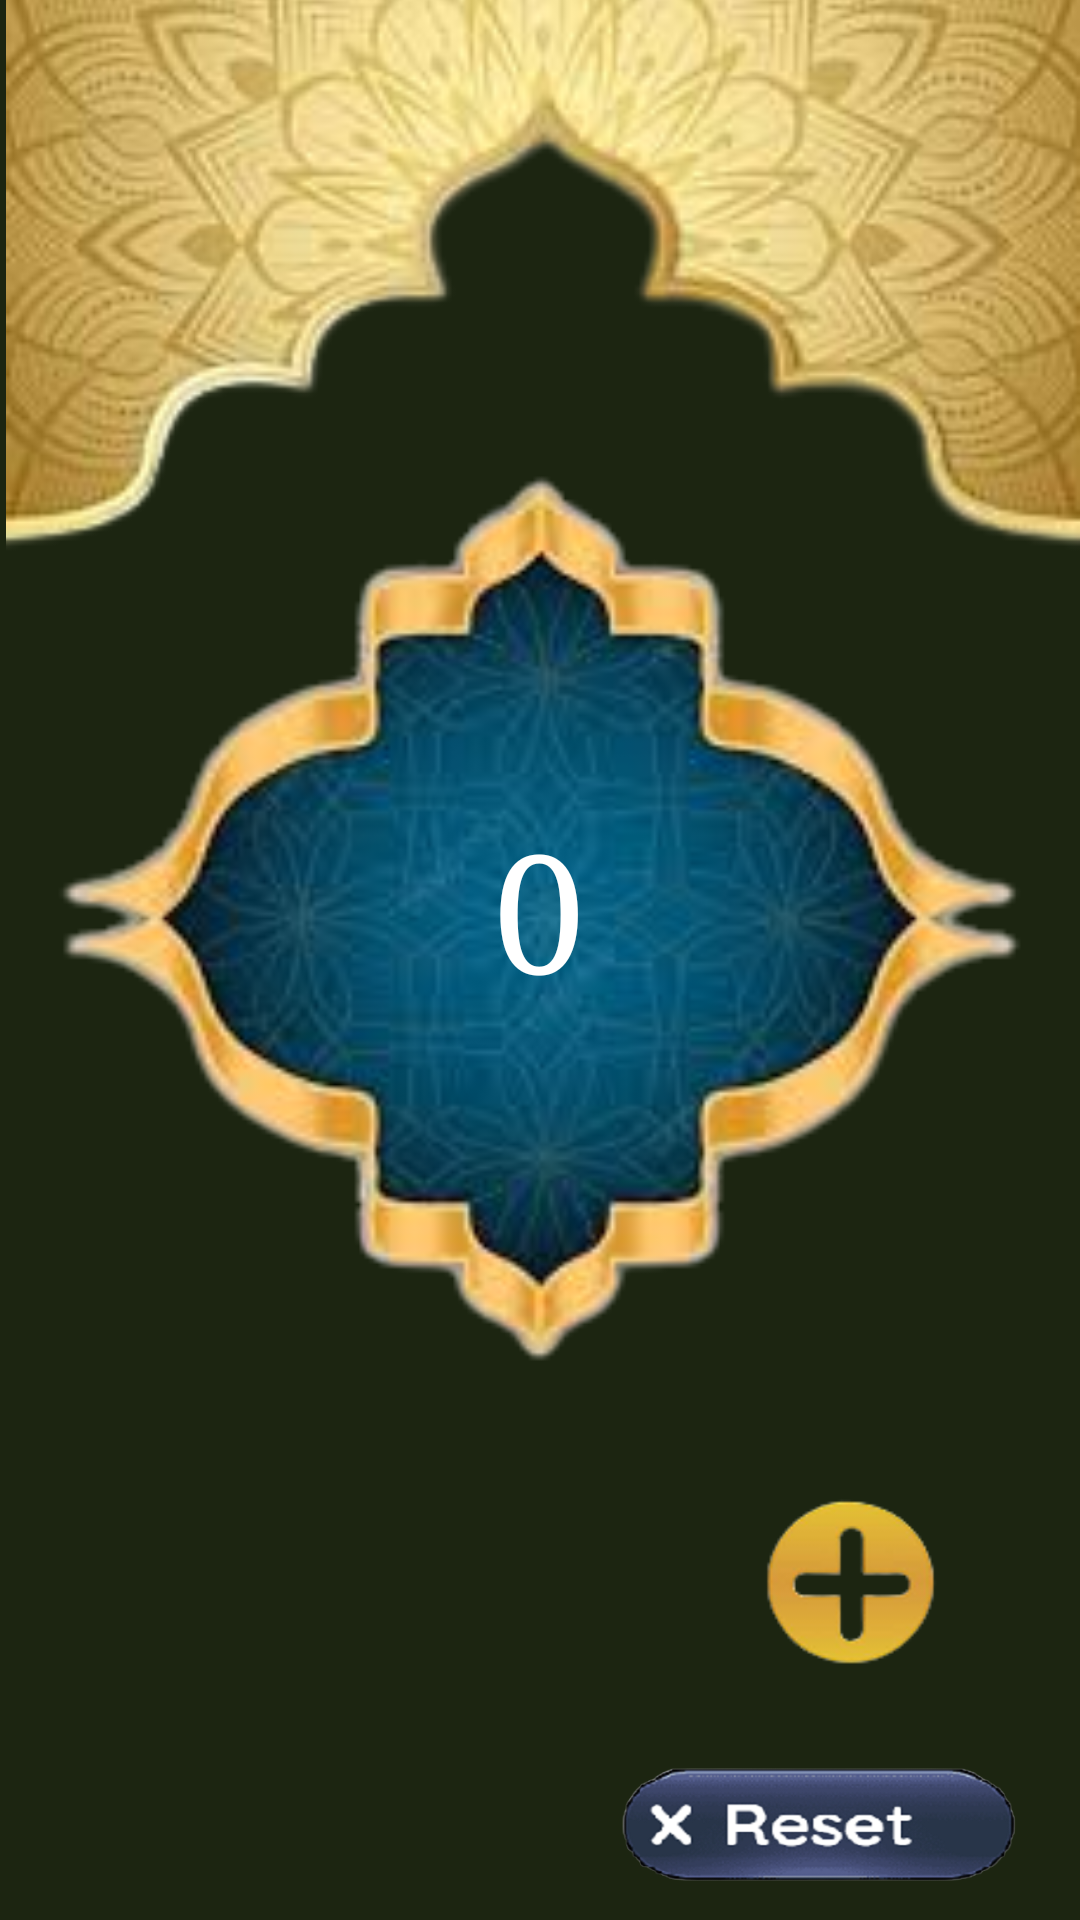

Screen size 1080px x 1920px. Icon name, then its box in pixels as (x1, y1, x2, y2):
add sign: (767, 1501, 934, 1664)
